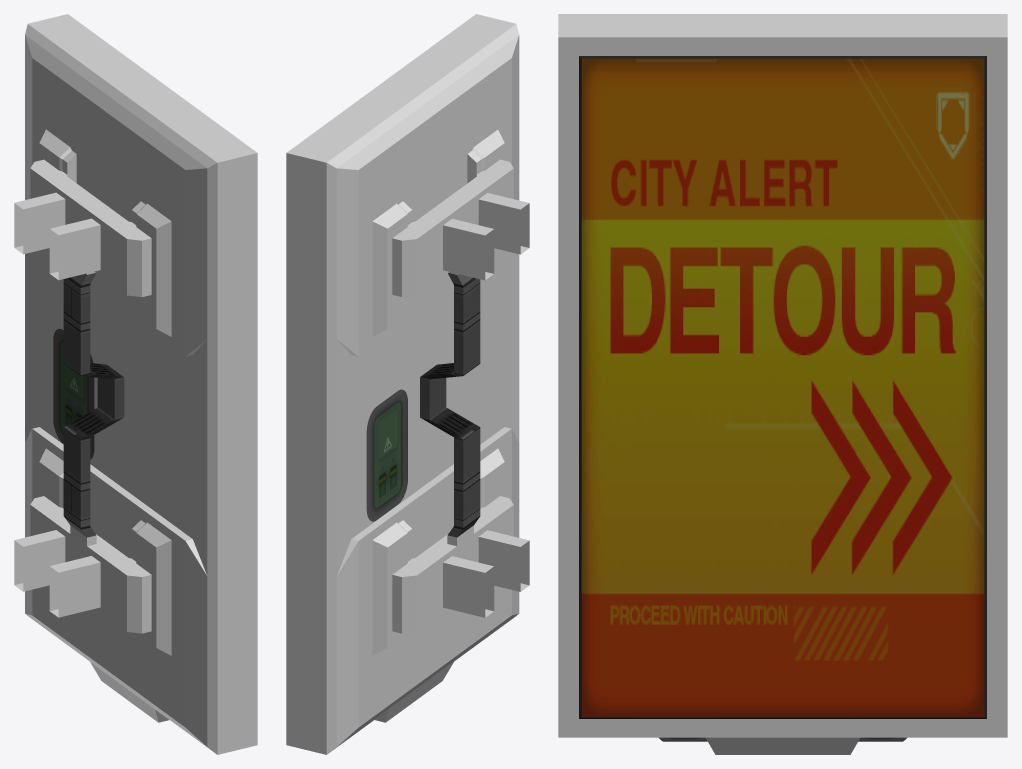
Rendered from future-sign.obj.
The picture shows the model from 3 angles, left to right: view 1: azimuth 30°, elevation 25°; view 2: azimuth 150°, elevation 25°; view 3: azimuth 270°, elevation 25°; orthographic projection. The views are drawn at different scales.
Visible parts, largest first — view 1: Mesh1 NM_Sign_Variety_D2_1 Model, Mesh2 NM_Sign_Variety_D2_1 Model; view 2: Mesh1 NM_Sign_Variety_D2_1 Model, Mesh2 NM_Sign_Variety_D2_1 Model; view 3: Mesh1 NM_Sign_Variety_D2_1 Model.
Boxes of the visible parts, x1,y1,x2,y2 form: Mesh1 NM_Sign_Variety_D2_1 Model: [14, 14, 257, 754]; Mesh2 NM_Sign_Variety_D2_1 Model: [53, 329, 94, 459]; Mesh1 NM_Sign_Variety_D2_1 Model: [286, 14, 529, 754]; Mesh2 NM_Sign_Variety_D2_1 Model: [366, 389, 407, 521]; Mesh1 NM_Sign_Variety_D2_1 Model: [558, 14, 1007, 754].
Bounding box in the file's own units: 1.39 × 6.37 × 3.59.
